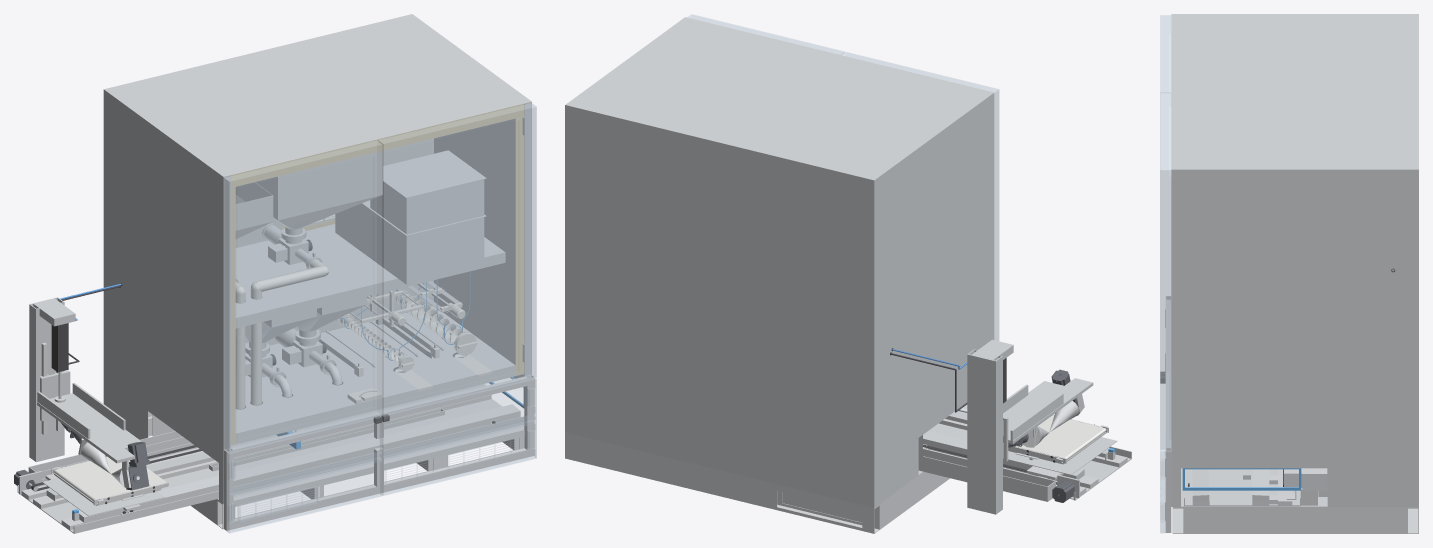
File: modul_C.glb
3 views of the same model, side by side, from view 1: azimuth 30°, elevation 25°; view 2: azimuth 150°, elevation 25°; view 3: azimuth 270°, elevation 25° (orthographic). The views are drawn at different scales.
Visible parts, largest first — view 1: TOPPING_MODUL__on_seffaf, TOPPING_MODUL__sac, TOPPING_MODUL__paslanmaz, TOPPING_MODUL__gn, TOPPING_MODUL__celik, TOPPING_MODUL__yalitim_gorunur, TOPPING_MODUL__sac__ACICI, KAIDE_C__paslanmaz, TOPPING_MODUL__hortum_gida, TOPPING_MODUL__pom, TOPPING_MODUL__bant__TABLA, TOPPING_MODUL__sac__ARABA (+8 smaller); view 2: TOPPING_MODUL__sac, KAIDE_C__paslanmaz, TOPPING_MODUL__sac__ACICI, TOPPING_MODUL__on_seffaf, TOPPING_MODUL__bant__TABLA, TOPPING_MODUL__sac__ARABA, TOPPING_MODUL__celik; view 3: TOPPING_MODUL__sac, KAIDE_C__paslanmaz, TOPPING_MODUL__on_seffaf, TOPPING_MODUL__celik, TOPPING_MODUL__silikon.
Part boxes in pixels (x1,y1,x2,y2): TOPPING_MODUL__on_seffaf: [224, 103, 536, 533]; TOPPING_MODUL__sac: [17, 14, 531, 533]; TOPPING_MODUL__paslanmaz: [231, 117, 524, 445]; TOPPING_MODUL__gn: [335, 150, 486, 284]; TOPPING_MODUL__celik: [21, 321, 534, 530]; TOPPING_MODUL__yalitim_gorunur: [231, 104, 524, 444]; TOPPING_MODUL__sac__ACICI: [37, 370, 141, 463]; KAIDE_C__paslanmaz: [148, 411, 524, 529]; TOPPING_MODUL__hortum_gida: [235, 259, 329, 409]; TOPPING_MODUL__pom: [302, 214, 492, 404]; TOPPING_MODUL__bant__TABLA: [54, 457, 167, 502]; TOPPING_MODUL__sac__ARABA: [42, 478, 164, 516]; TOPPING_MODUL__sac: [565, 17, 1131, 514]; KAIDE_C__paslanmaz: [565, 432, 949, 533]; TOPPING_MODUL__sac__ACICI: [1003, 378, 1093, 461]; TOPPING_MODUL__on_seffaf: [687, 14, 999, 411]; TOPPING_MODUL__bant__TABLA: [1015, 415, 1106, 459]; TOPPING_MODUL__sac__ARABA: [1008, 437, 1117, 474]; TOPPING_MODUL__celik: [923, 419, 1127, 495]; TOPPING_MODUL__sac: [1171, 14, 1418, 506]; KAIDE_C__paslanmaz: [1172, 507, 1418, 533]; TOPPING_MODUL__on_seffaf: [1160, 15, 1171, 533]; TOPPING_MODUL__celik: [1165, 296, 1327, 532]; TOPPING_MODUL__silikon: [1182, 468, 1301, 490].
Bounding box in the file's own units: 1.9 × 1.41 × 0.909.
